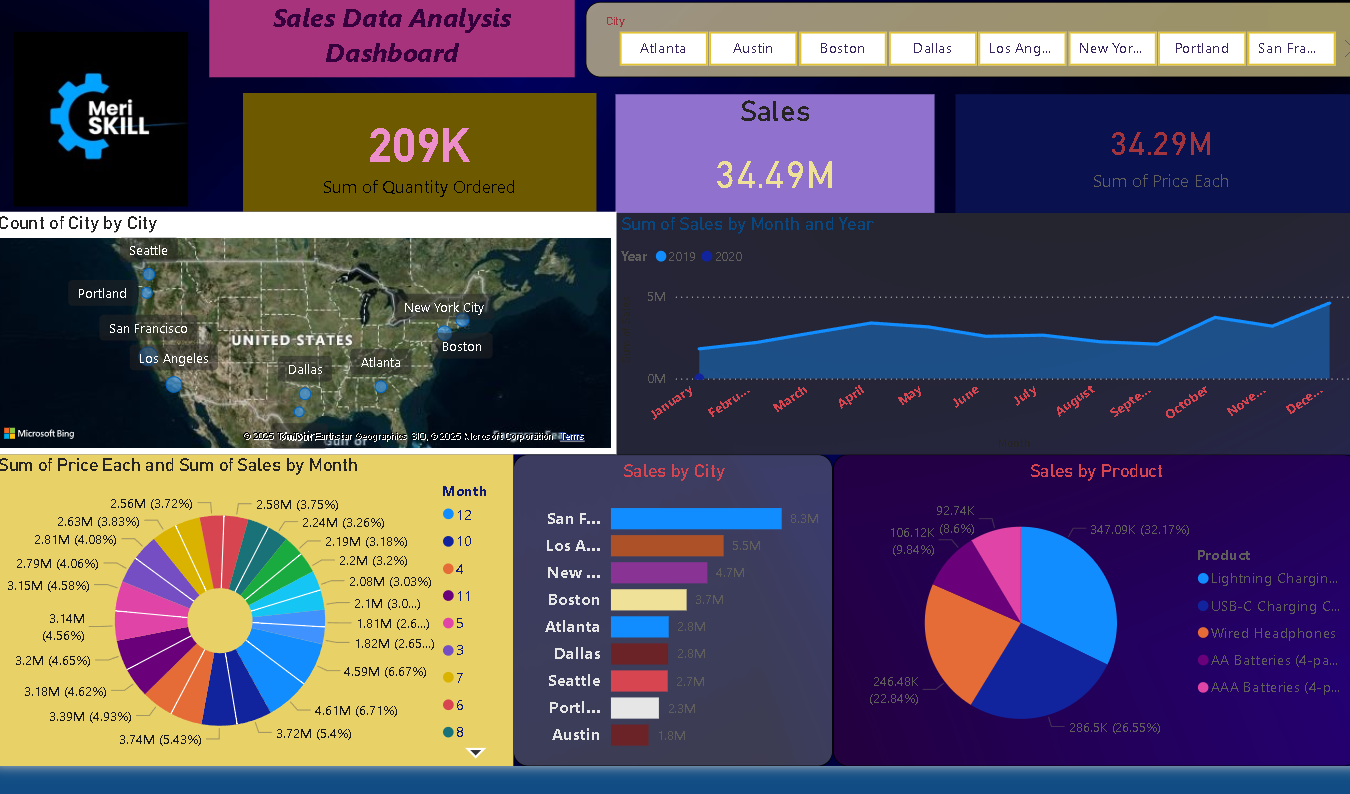

What the dashboard file says about the page in this screenshot:
{"tool":"powerbi","page":{"name":"Page 1","canvas":[1280,720],"ordinal":0},"visuals":[{"type":"clusteredBarChart","title":" Sales by City","fields":{"Category":["Sales Data.City"],"Y":["Sum(Sales Data.Sales)"]},"box":[483.6,429.3,297.9,290.7],"z":0},{"type":"pieChart","title":" Sales by Product","fields":{"Category":["Sales Data.Product"],"Y":["Sum(Sales Data.Sales)"]},"box":[781.5,429.3,488.4,290.7],"z":1000},{"type":"areaChart","fields":{"Y":["Sum(Sales Data.Sales)"],"Category":["Sales Data.Order Date.Variation.Date Hierarchy.Month","Sales Data.Order Date.Variation.Date Hierarchy.Day"],"Series":["Sales Data.Order Date.Variation.Date Hierarchy.Year"]},"box":[579.5,204.5,690.9,225],"z":2000},{"type":"pieChart","fields":{"Y":["Sum(Sales Data.Price Each)","Sum(Sales Data.Sales)"],"Category":["Sales Data.Month"]},"box":[0,429.5,484.1,290.9],"z":3000},{"type":"slicer","fields":{"Values":["Sales Data.City"]},"box":[551.7,8,727.6,70.1],"z":4000},{"type":"textbox","box":[201.1,0,340.2,78.2],"z":5000},{"type":"card","title":"Sales","fields":{"Values":["Sum(Sales Data.Sales)"]},"box":[579.5,94.3,296.6,110.2],"z":6000},{"type":"card","fields":{"Values":["Sum(Sales Data.Quantity Ordered)"]},"box":[233,93.2,328.4,110.2],"z":7000},{"type":"card","fields":{"Values":["Sum(Sales Data.Price Each)"]},"box":[895.7,94.3,384.3,110],"z":8000},{"type":"map","fields":{"Category":["Sales Data.City"],"Size":["CountNonNull(Sales Data.City)"]},"box":[0,203.8,580.1,225.5],"z":9000},{"type":"image","box":[0,31,201.1,172.4],"z":10000}]}

Visuals, with their boxes in screenshot pixels (x1, y1, x2, y2):
" Sales by City" clusteredBarChart: Rect(507, 449, 829, 762)
" Sales by Product" pieChart: Rect(829, 449, 1349, 762)
areaChart - Sum(Sales Data.Sales) x Sales Data.Order Date.Variation.Date Hierarchy.Month: Rect(611, 206, 1349, 449)
pieChart - Sum(Sales Data.Price Each) x Sum(Sales Data.Sales): Rect(0, 449, 508, 763)
slicer - Sales Data.City: Rect(581, 0, 1349, 70)
textbox: Rect(203, 0, 570, 70)
"Sales" card: Rect(611, 88, 931, 206)
card - Sum(Sales Data.Quantity Ordered): Rect(237, 86, 591, 205)
card - Sum(Sales Data.Price Each): Rect(952, 88, 1349, 206)
map - Sales Data.City x CountNonNull(Sales Data.City): Rect(0, 206, 611, 449)
image: Rect(0, 19, 203, 205)
